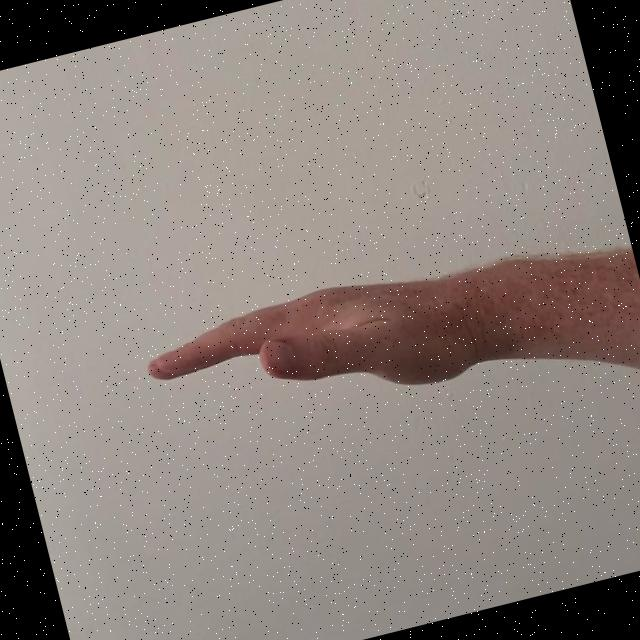papper: (133, 232, 548, 458)
